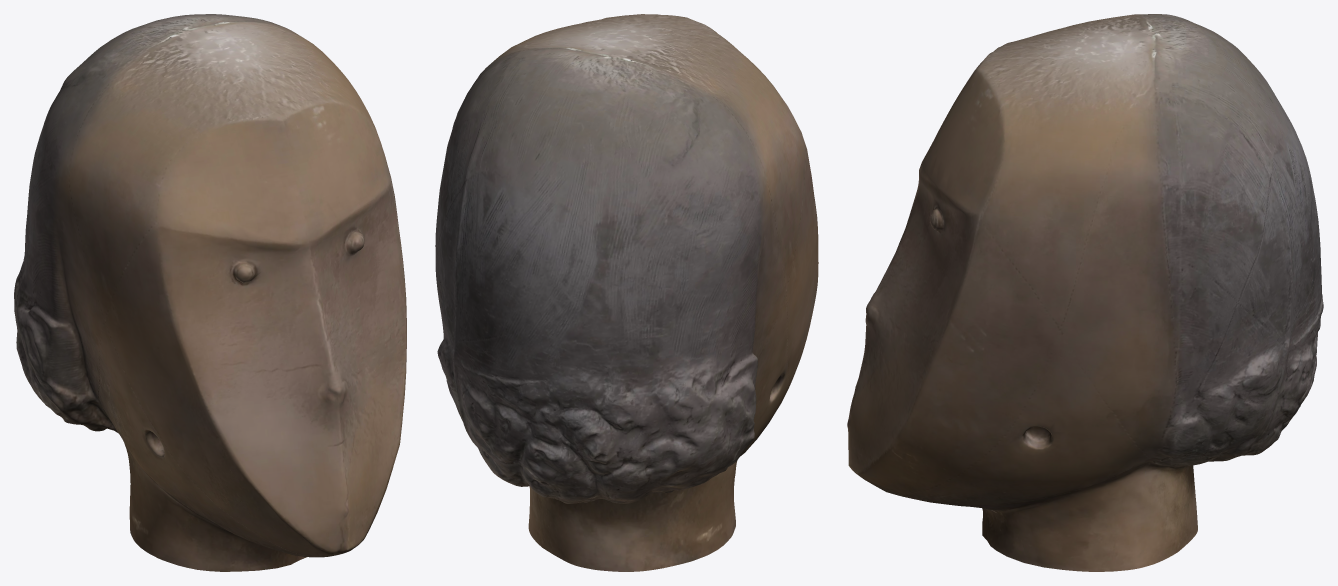
File: head-c.glb
3 views of the same model, side by side, from view 1: azimuth 30°, elevation 25°; view 2: azimuth 150°, elevation 25°; view 3: azimuth 270°, elevation 25° (orthographic). The views are drawn at different scales.
Visible parts, largest first — view 1: headB_low; view 2: headB_low; view 3: headB_low.
Boxes of the visible parts, bbox=[...] form: headB_low: bbox=[14, 14, 406, 571]; headB_low: bbox=[435, 14, 818, 571]; headB_low: bbox=[847, 14, 1323, 571].
Size of the model in its own units: 0.3228 by 0.5 by 0.4392.
1 material, 1 textured.
